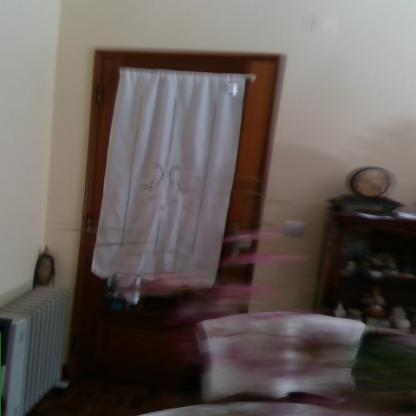closed: (63, 38, 294, 416)
